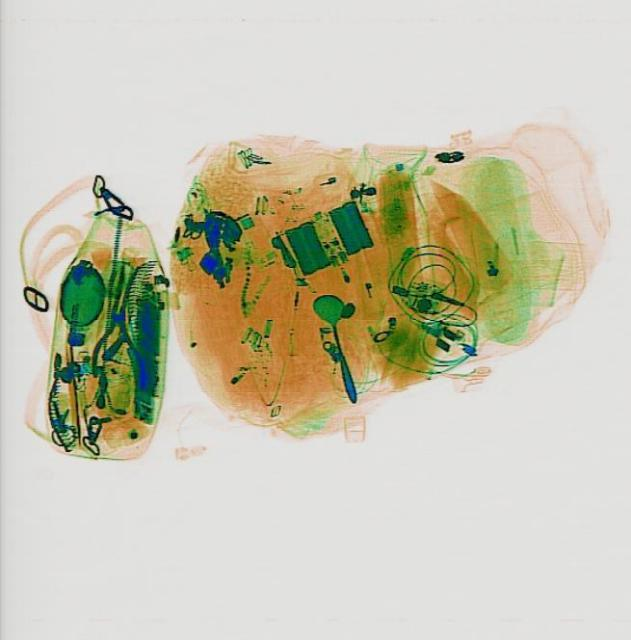Pliers: (85, 259, 160, 391)
